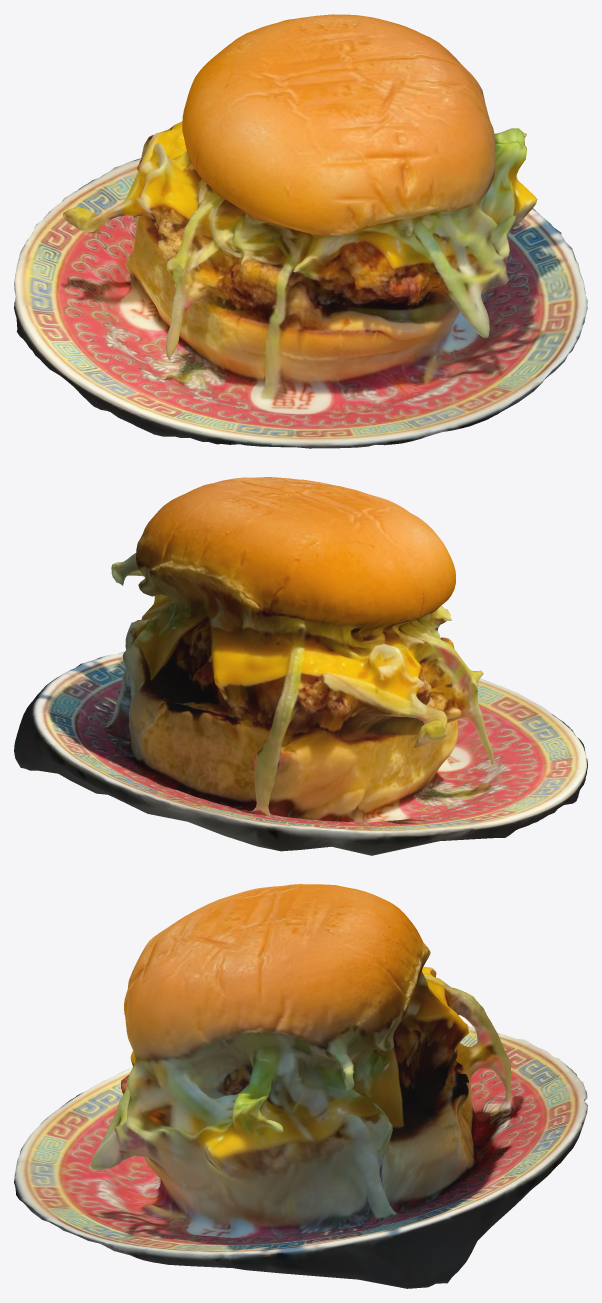
The picture shows the model from 3 angles, top to bottom: view 1: azimuth 30°, elevation 25°; view 2: azimuth 150°, elevation 25°; view 3: azimuth 270°, elevation 25°; orthographic projection. The views are drawn at different scales.
Parts seen in each view (by area): view 1: ObjectCapture; view 2: ObjectCapture; view 3: ObjectCapture.
Boxes of the visible parts, x1,y1,x2,y2 form: ObjectCapture: (14,14,587,448); ObjectCapture: (14,477,587,855); ObjectCapture: (14,884,587,1288).
Bounding box in the file's own units: 0.6046 × 0.3486 × 0.5961.
1 material, 1 textured.
